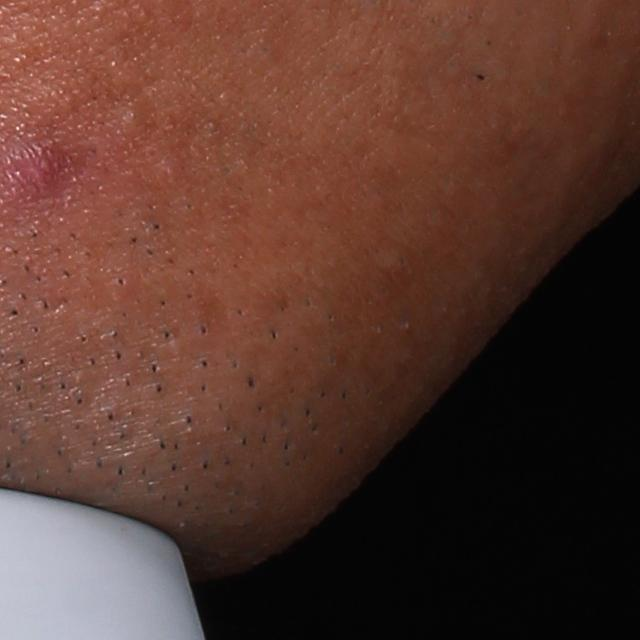papule: (8, 150, 80, 199)
